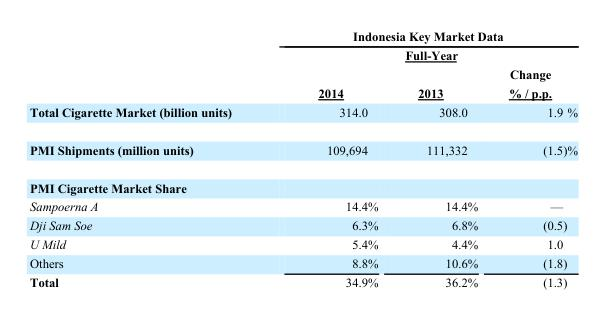table: (29, 28, 576, 288)
table column: (29, 28, 274, 288), (274, 28, 397, 288), (397, 28, 492, 288), (492, 28, 576, 288)
table column header: (29, 28, 576, 102)
table projected row header: (29, 168, 576, 196)
table row: (29, 64, 576, 102), (29, 130, 576, 168), (29, 28, 576, 64), (29, 102, 576, 130), (29, 168, 576, 196), (29, 196, 576, 215), (29, 215, 576, 234), (29, 234, 576, 253), (29, 253, 576, 272), (29, 272, 576, 288)
table spanning cell: (274, 28, 576, 64)
